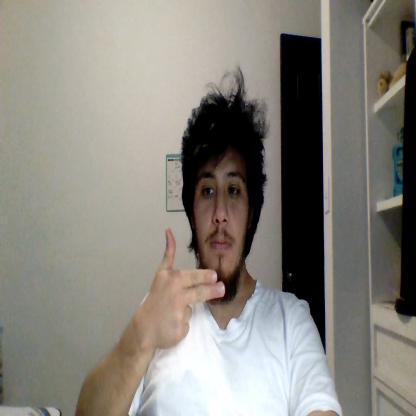H: (149, 228, 226, 350)
